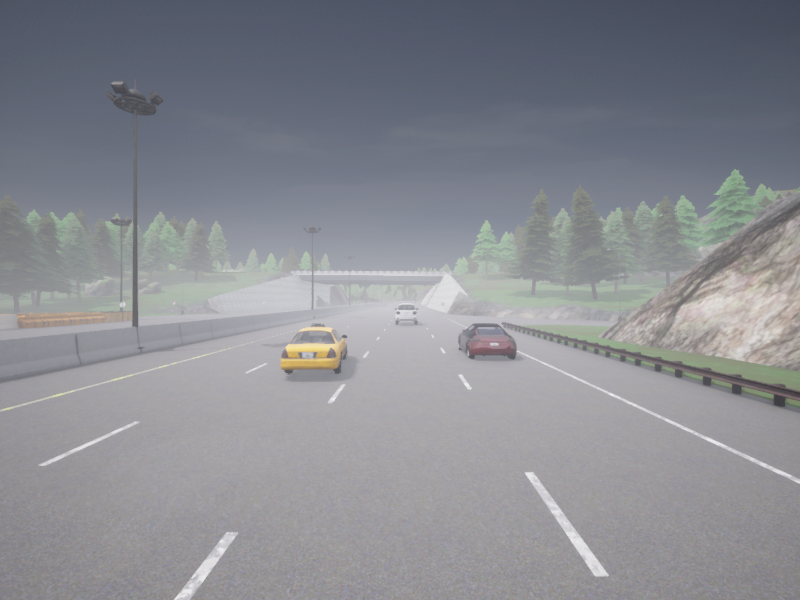vehicle: (280, 323, 346, 373), (458, 323, 516, 358), (395, 304, 417, 324)
